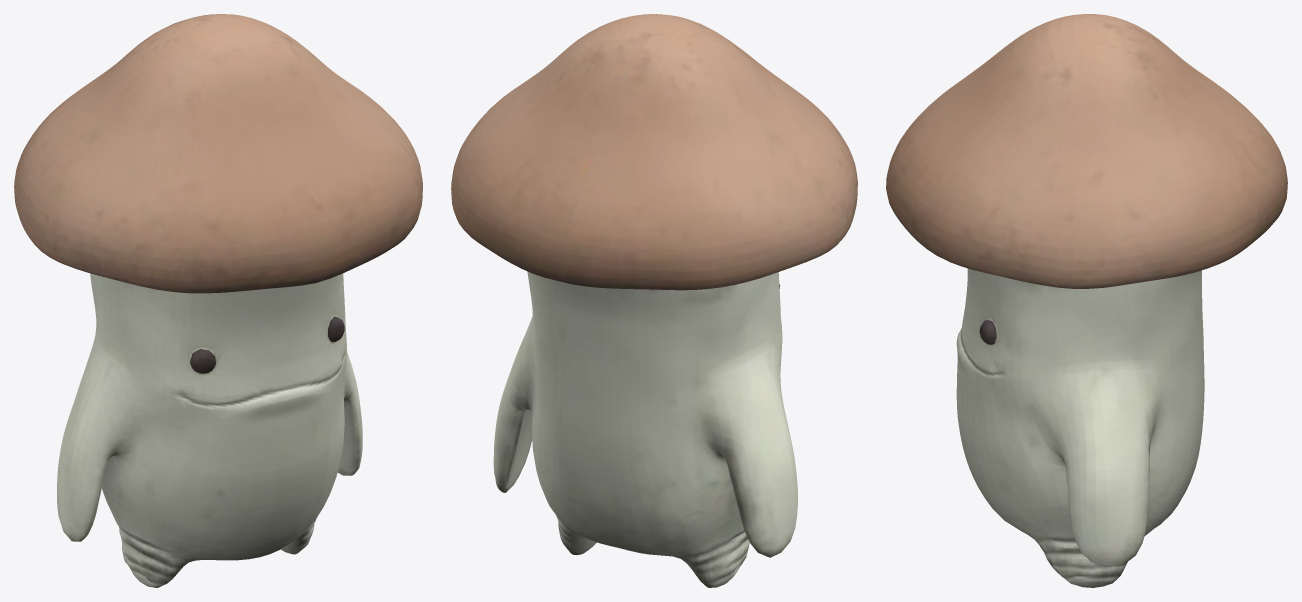
Rendered from mushroom2.glb.
The picture shows the model from 3 angles, left to right: view 1: azimuth 30°, elevation 25°; view 2: azimuth 150°, elevation 25°; view 3: azimuth 270°, elevation 25°; orthographic projection. The views are drawn at different scales.
Parts seen in each view (by area): view 1: polySurface2_PolySphere_0; view 2: polySurface2_PolySphere_0; view 3: polySurface2_PolySphere_0.
Part boxes in pixels (left/top/right/bottom): polySurface2_PolySphere_0: left=14, top=14, right=422, bottom=587; polySurface2_PolySphere_0: left=451, top=14, right=857, bottom=587; polySurface2_PolySphere_0: left=886, top=14, right=1287, bottom=587.
Bounding box in the file's own units: 5.28 × 7.57 × 5.22.
Materials: 1 (1 with a texture image).
